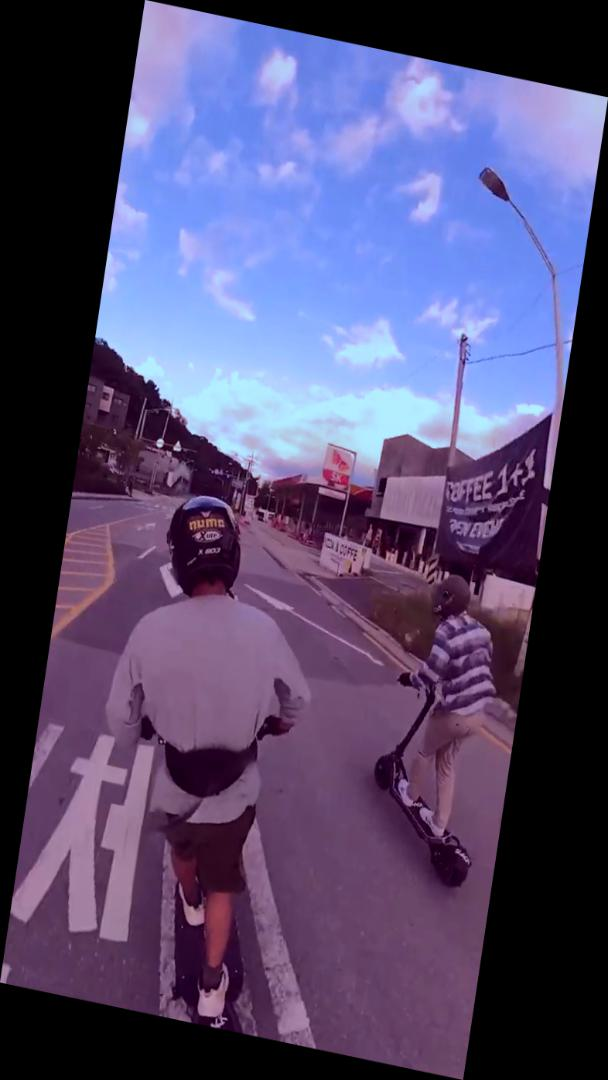helmet: (62, 479, 336, 1037), (356, 560, 515, 889)
